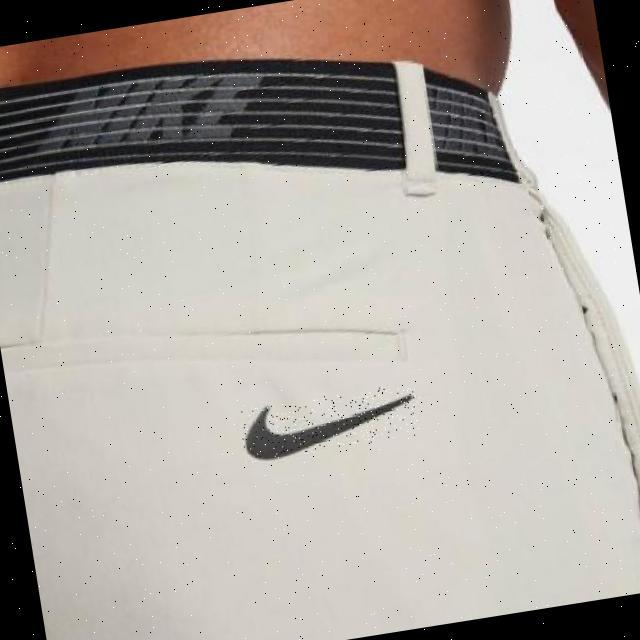Nike: (238, 383, 420, 464)
